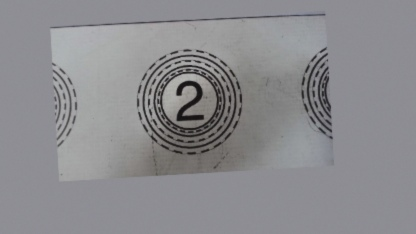2r: (132, 44, 245, 157)
